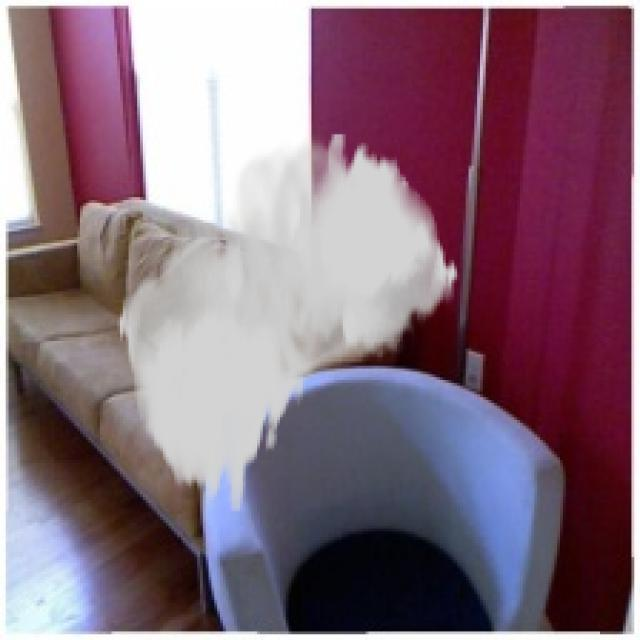Smoke: (117, 132, 460, 512)
